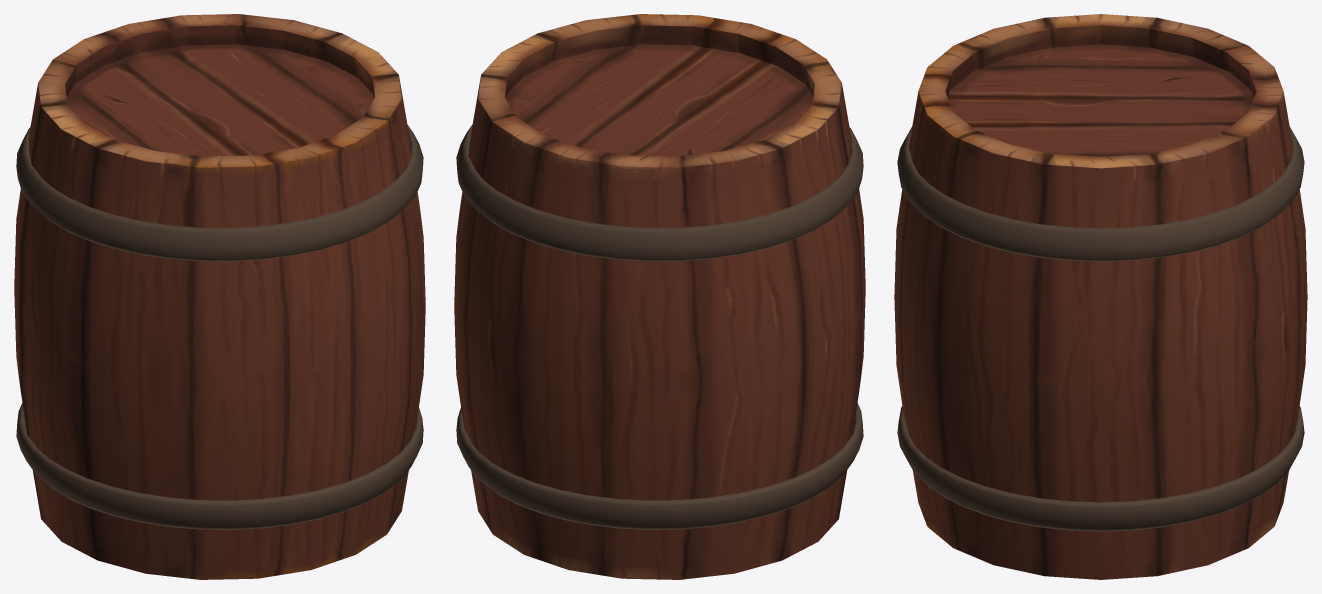
The model's file is Medieval_Barrel.glb.
3 views of the same model, side by side, from view 1: azimuth 30°, elevation 25°; view 2: azimuth 150°, elevation 25°; view 3: azimuth 270°, elevation 25° (orthographic).
Parts seen in each view (by area): view 1: Barrel_body, Rings; view 2: Barrel_body, Rings; view 3: Barrel_body, Rings.
Boxes of the visible parts, x1=… form: Barrel_body: x1=14, y1=14, x2=425, y2=579; Rings: x1=16, y1=124, x2=423, y2=529; Barrel_body: x1=454, y1=14, x2=865, y2=579; Rings: x1=456, y1=124, x2=863, y2=529; Barrel_body: x1=894, y1=14, x2=1307, y2=579; Rings: x1=897, y1=126, x2=1304, y2=531.
Bounding box in the file's own units: 8.22 × 9.03 × 8.22.
2 materials, 1 textured.
